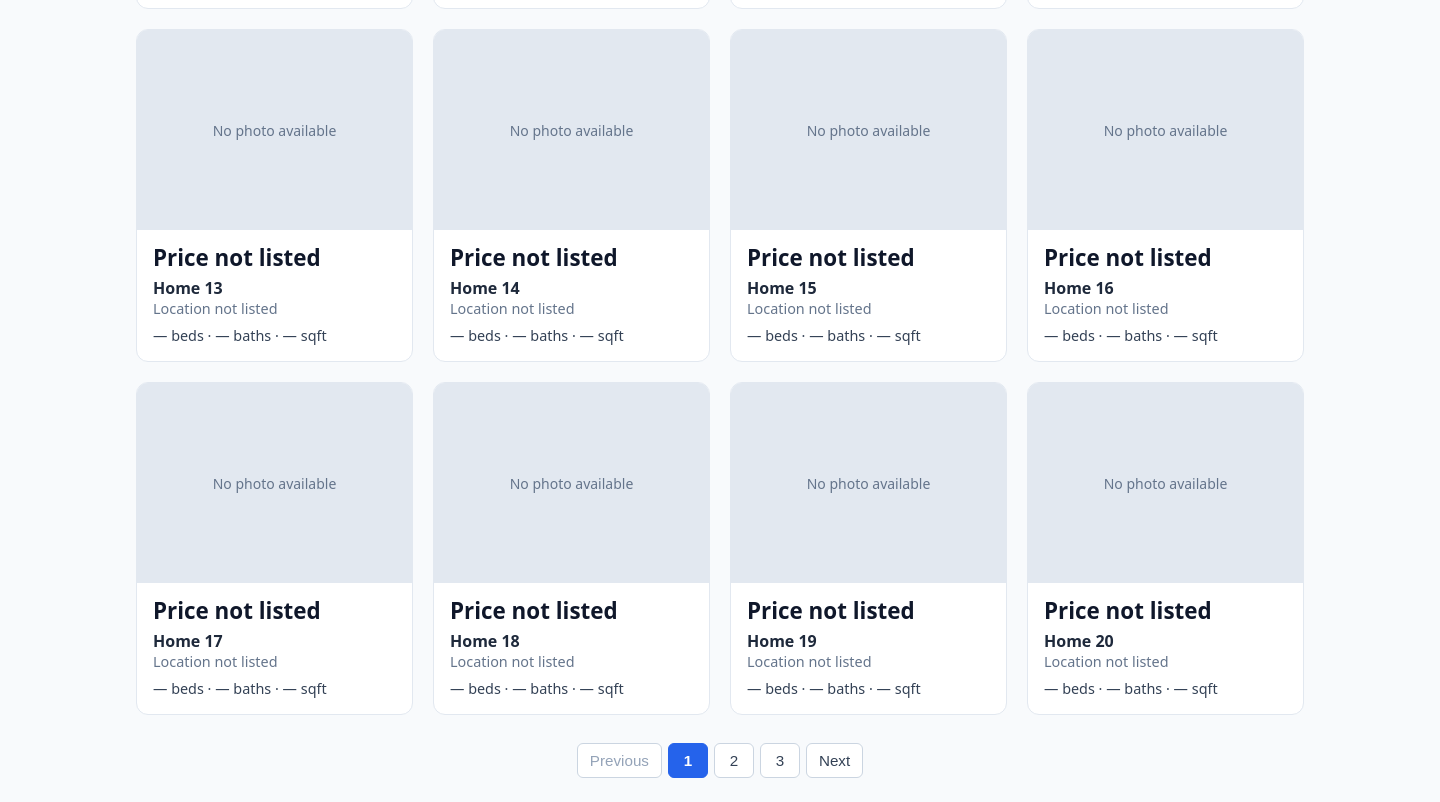
Test: Clear Filters also goes back to page 1
This screenshot has width=1440, height=802.
(page scrolled)
Click the button named "Page 3" at (780, 760), box [760,743,800,778]
(page scrolled)
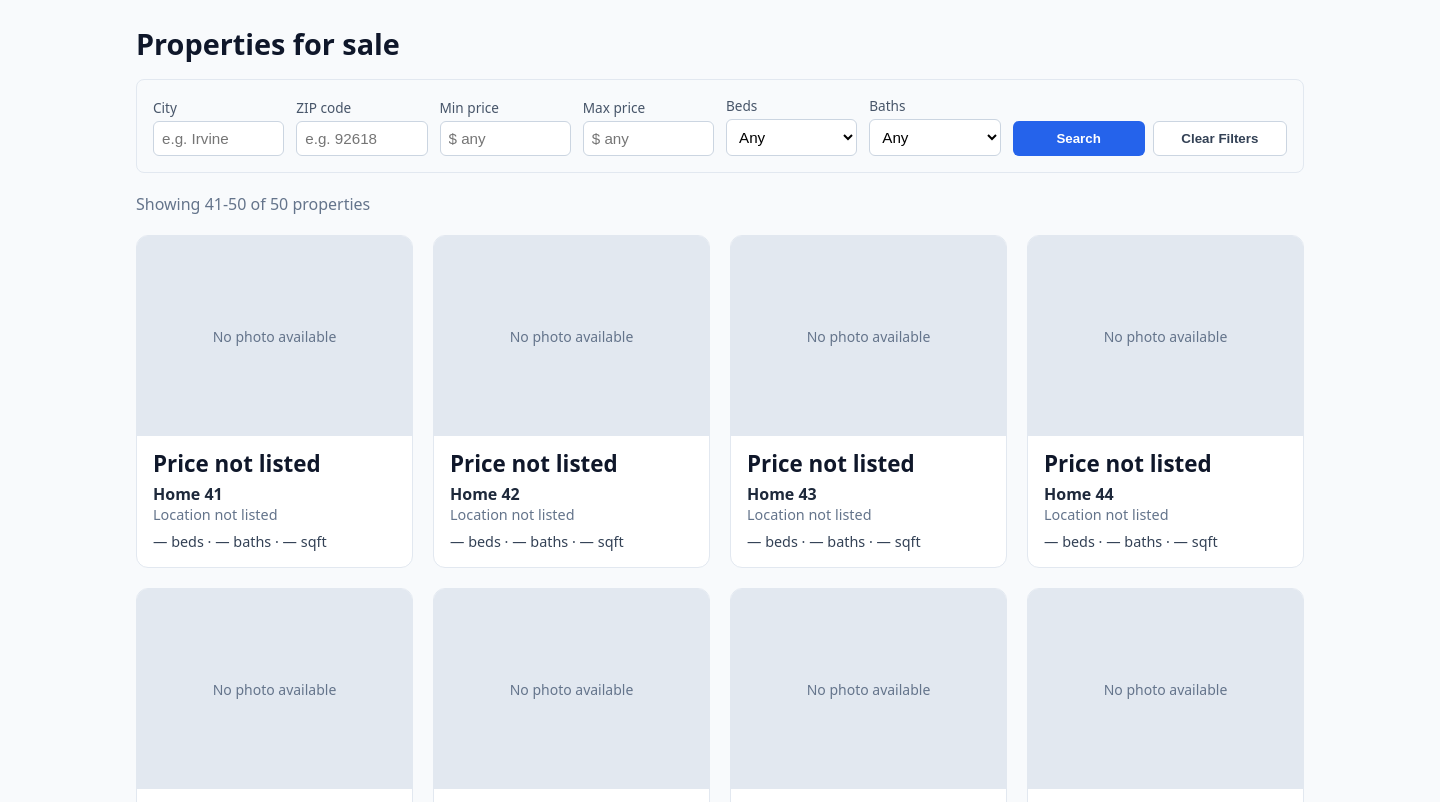
Result: the text "Showing 41-50 of 50 properties" is shown at [136,193,370,215]
Click the button "Clear Filters" at (1220, 138), box [1153,121,1287,156]
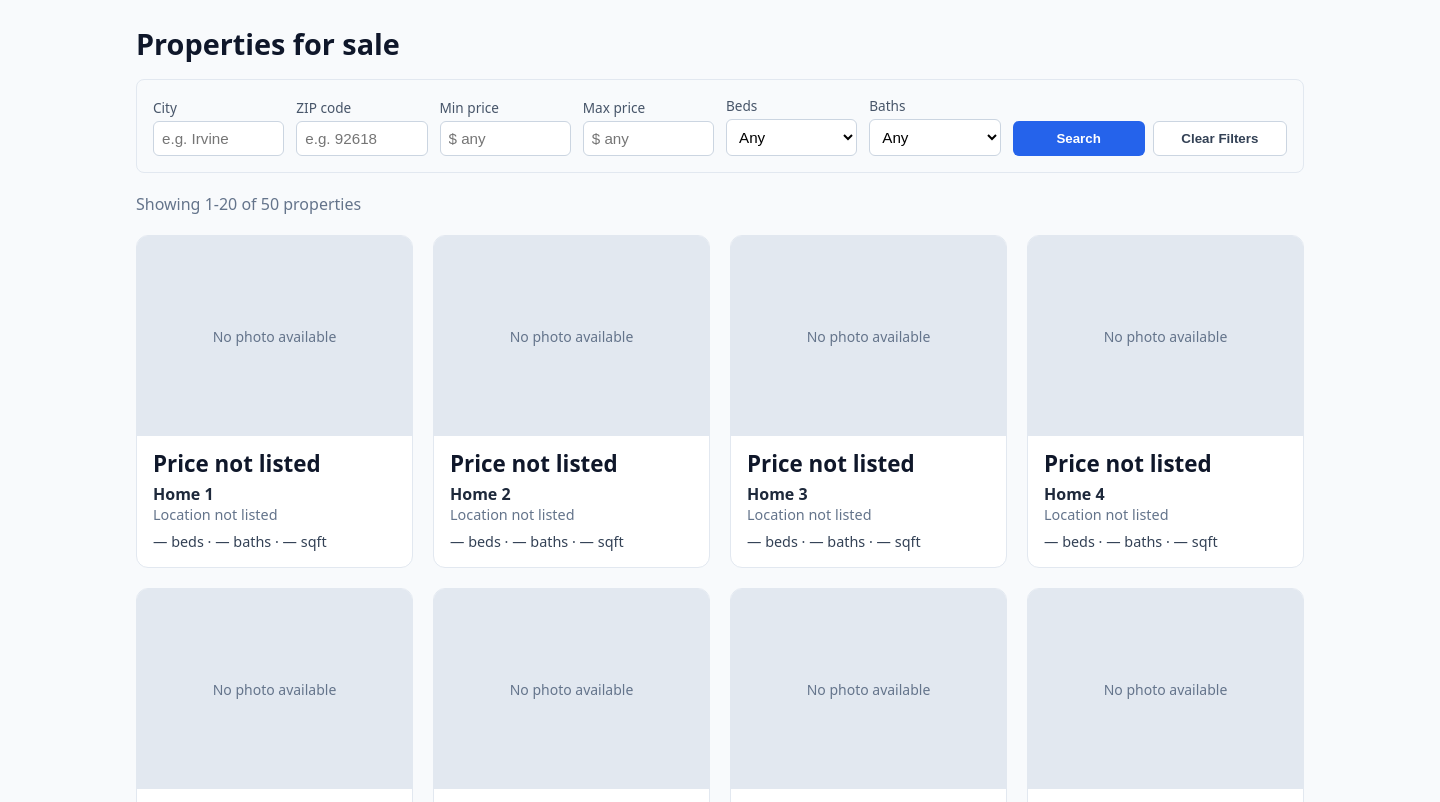
Result: the text "Showing 1-20 of 50 properties" is shown at [136,193,361,215]
